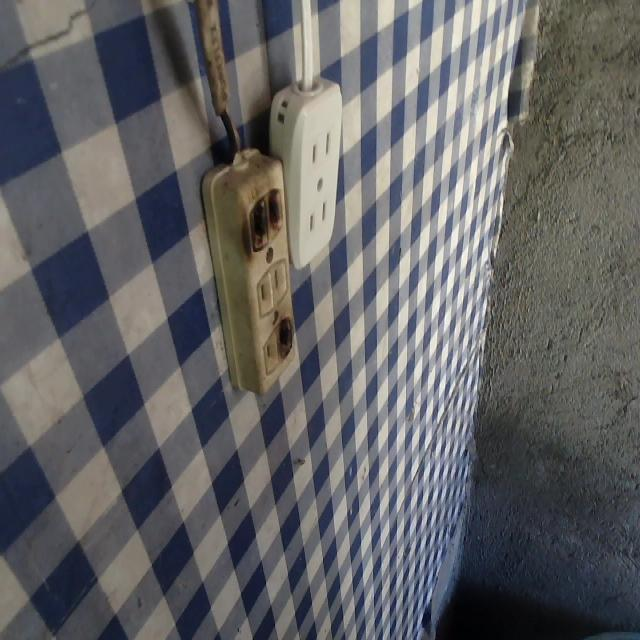-: (238, 185, 286, 252), (273, 313, 297, 359)
